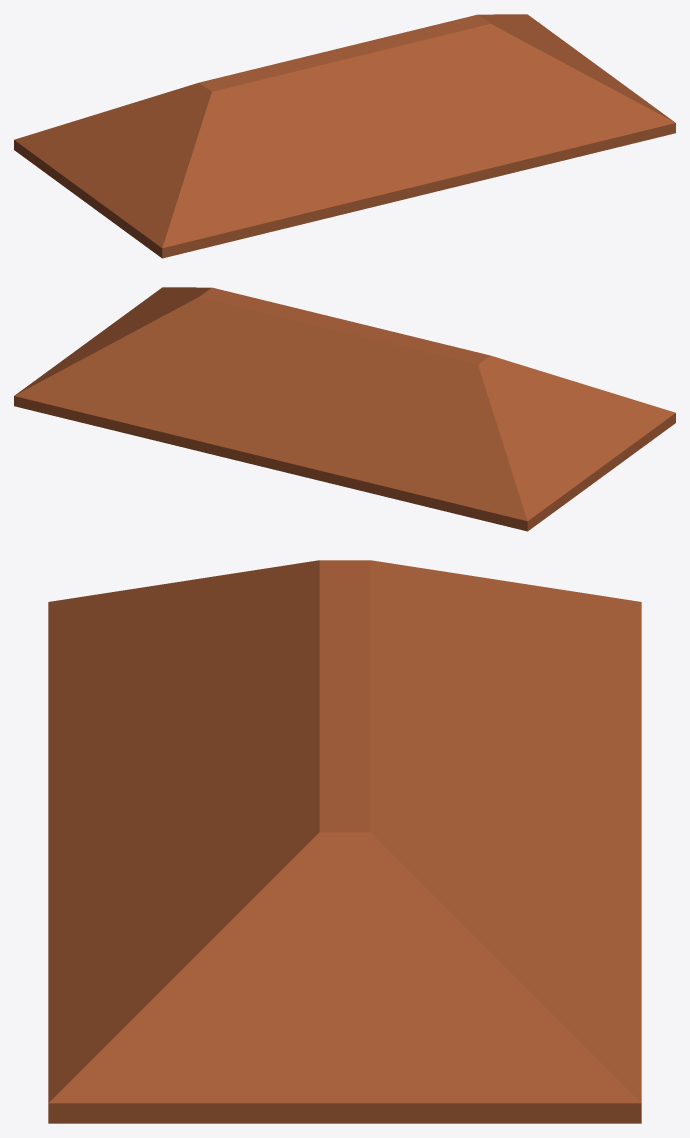
Rendered from building_bloc_roof.fbx.
3 views of the same model, one above another, from view 1: azimuth 30°, elevation 25°; view 2: azimuth 150°, elevation 25°; view 3: azimuth 270°, elevation 25° (orthographic). The views are drawn at different scales.
Visible parts, largest first — view 1: building_bloc_roof; view 2: building_bloc_roof; view 3: building_bloc_roof.
Boxes of the visible parts, <box> form: building_bloc_roof: <box>14,14,675,258</box>; building_bloc_roof: <box>14,287,675,531</box>; building_bloc_roof: <box>48,560,641,1123</box>.
Bounding box in the file's own units: 2100 × 345 × 1050.
Materials: 1 (1 with a texture image).
